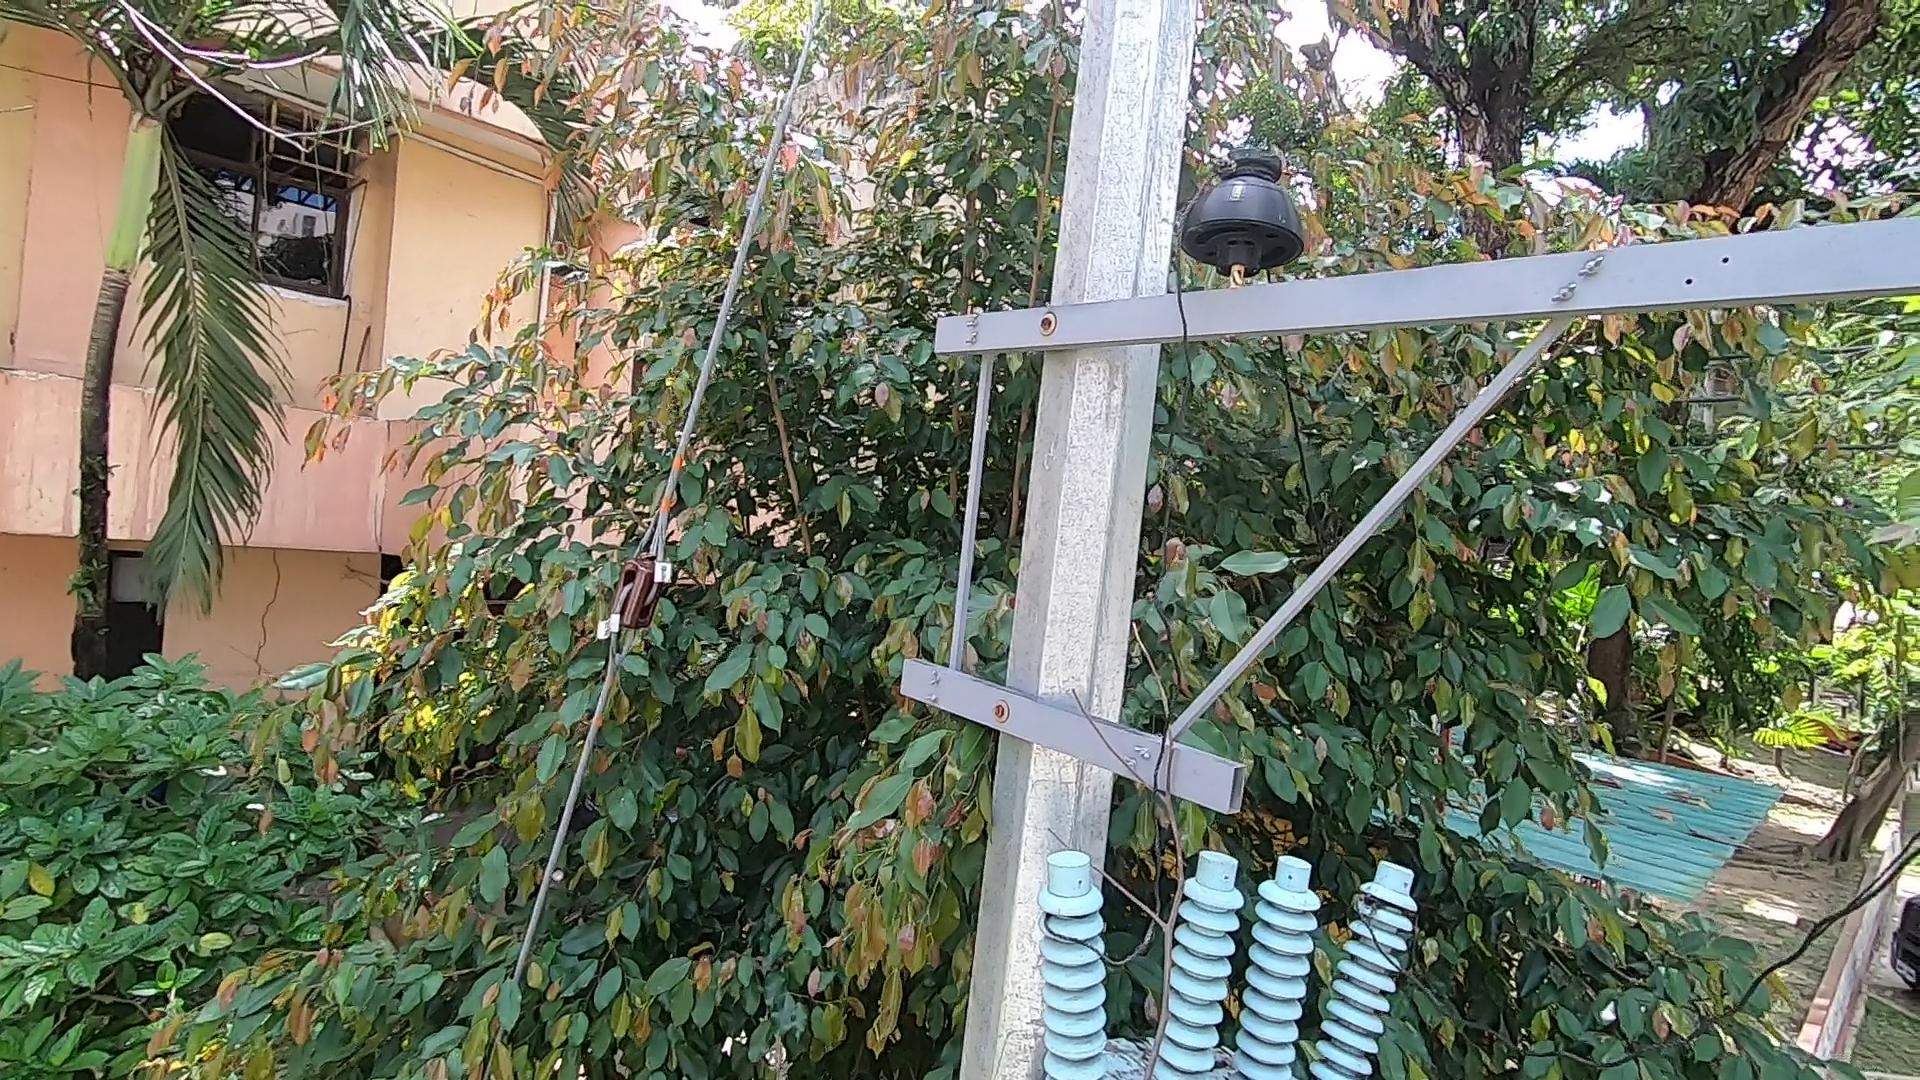tree branch: (1060, 574, 1242, 1073)
